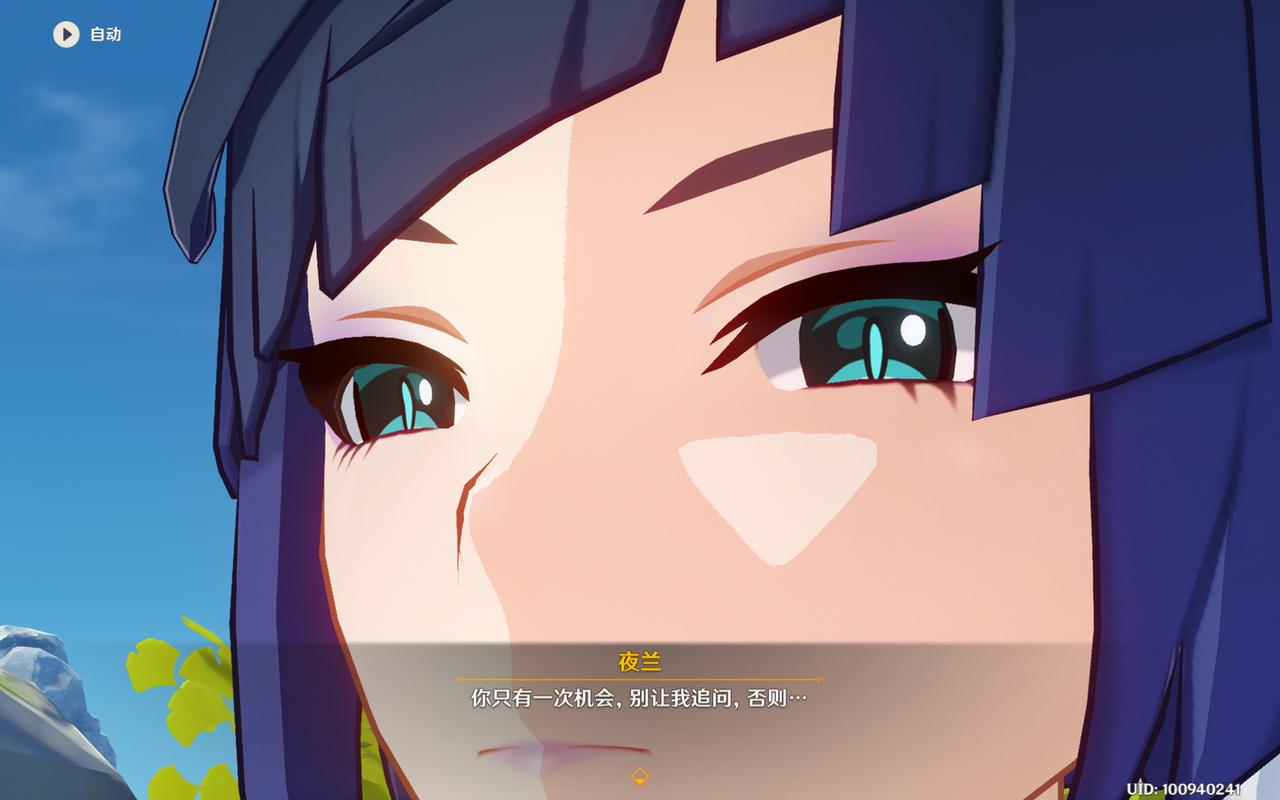夜兰: (171, 5, 1280, 800)
